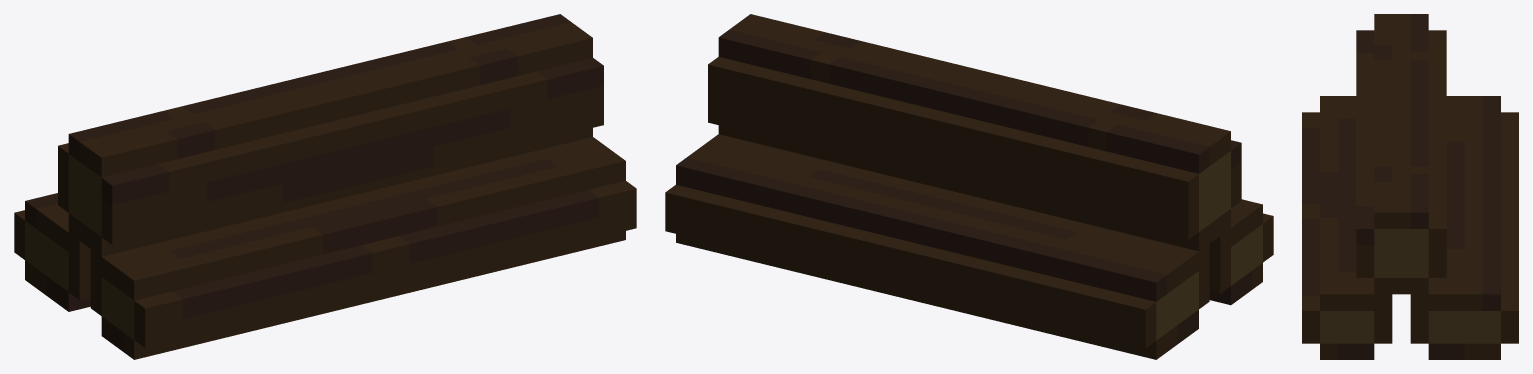
The model's file is log_vox.fbx.
3 renders of one model, left to right at view 1: azimuth 30°, elevation 25°; view 2: azimuth 150°, elevation 25°; view 3: azimuth 270°, elevation 25°, orthographic. The views are drawn at different scales.
Parts seen in each view (by area): view 1: Mesh1; view 2: Mesh1; view 3: Mesh1.
Part boxes in pixels (x1,y1,x2,y2): Mesh1: (14, 14, 636, 359); Mesh1: (665, 14, 1273, 359); Mesh1: (1302, 14, 1518, 359).
Bounding box in the file's own units: 2.6 × 0.9 × 1.2.
1 material, 1 textured.
